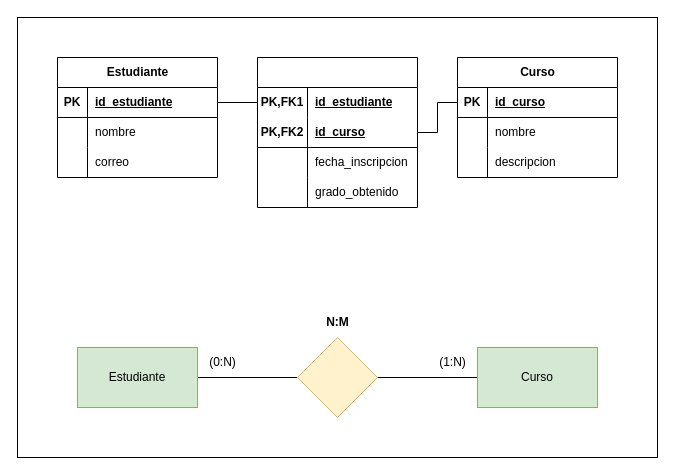
Image size: 675x475. Some labels were removed from this diagram. Each missing label, with the box of its shape:
Estudiante_Curso: (256, 56, 418, 208)
inscribirse: (296, 336, 378, 418)
